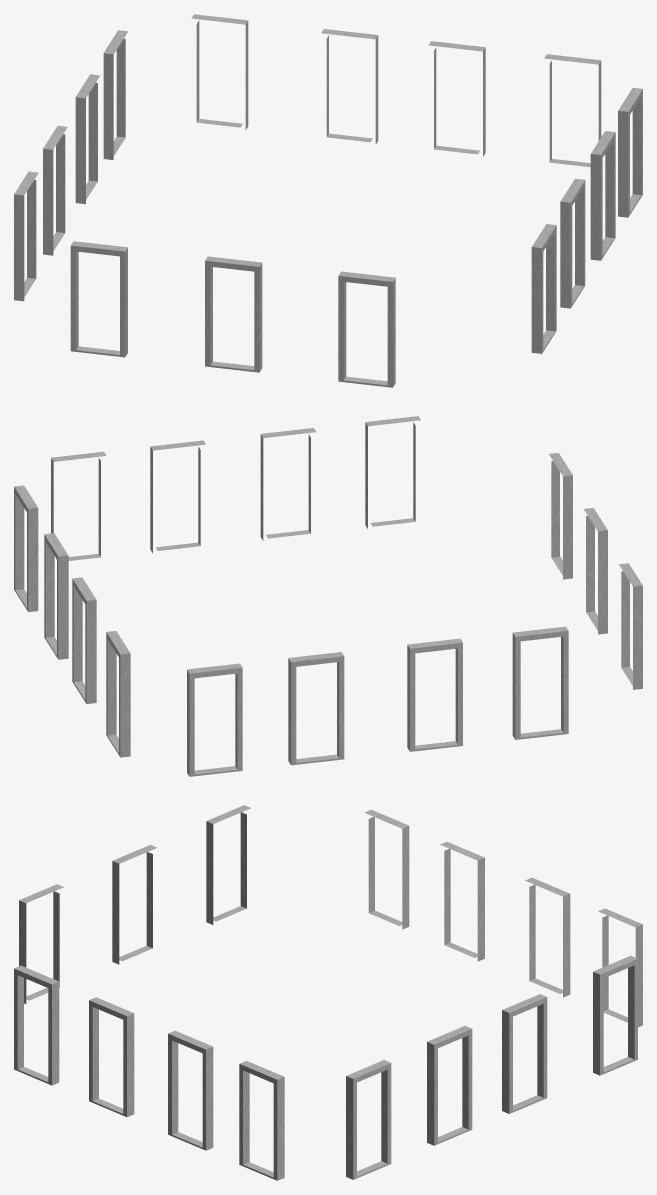
The model's file is zone-doors.glb.
3 renders of one model, top to bottom at view 1: azimuth 30°, elevation 25°; view 2: azimuth 150°, elevation 25°; view 3: azimuth 270°, elevation 25°, orthographic. The views are drawn at different scales.
Parts seen in each view (by area): view 1: doors; view 2: doors; view 3: doors.
Part boxes in pixels (box(x1,y1,x2,y2)): doors: box(14, 14, 642, 387); doors: box(14, 416, 642, 776); doors: box(14, 805, 642, 1180).
Size of the model in its own units: 15.37 by 2.63 by 14.86.
1 material, 1 textured.
